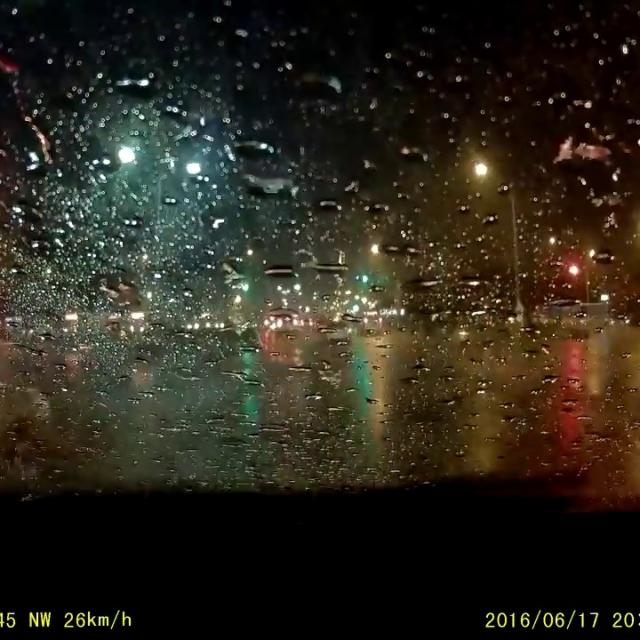Car: (316, 319, 352, 348), (360, 310, 382, 329)
